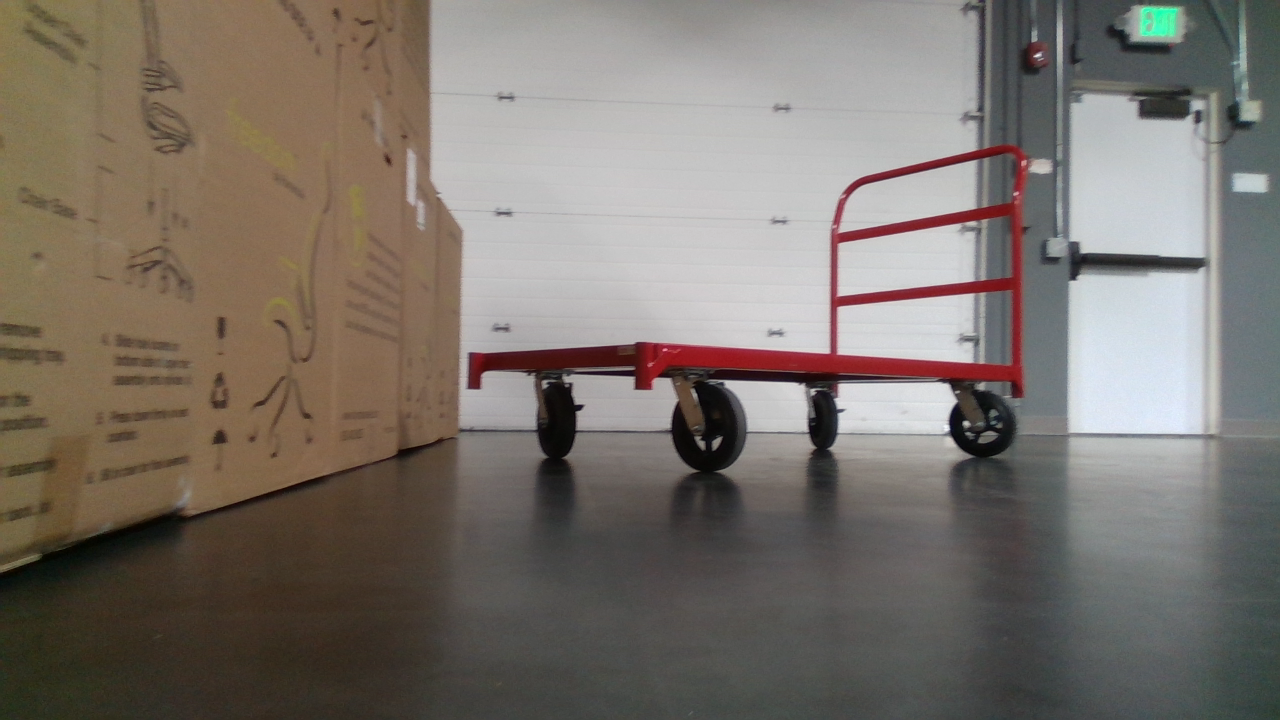Dolly: (466, 143, 1031, 474)
Wheel: (671, 380, 748, 472), (948, 389, 1018, 457), (535, 383, 584, 458), (805, 389, 846, 449)
